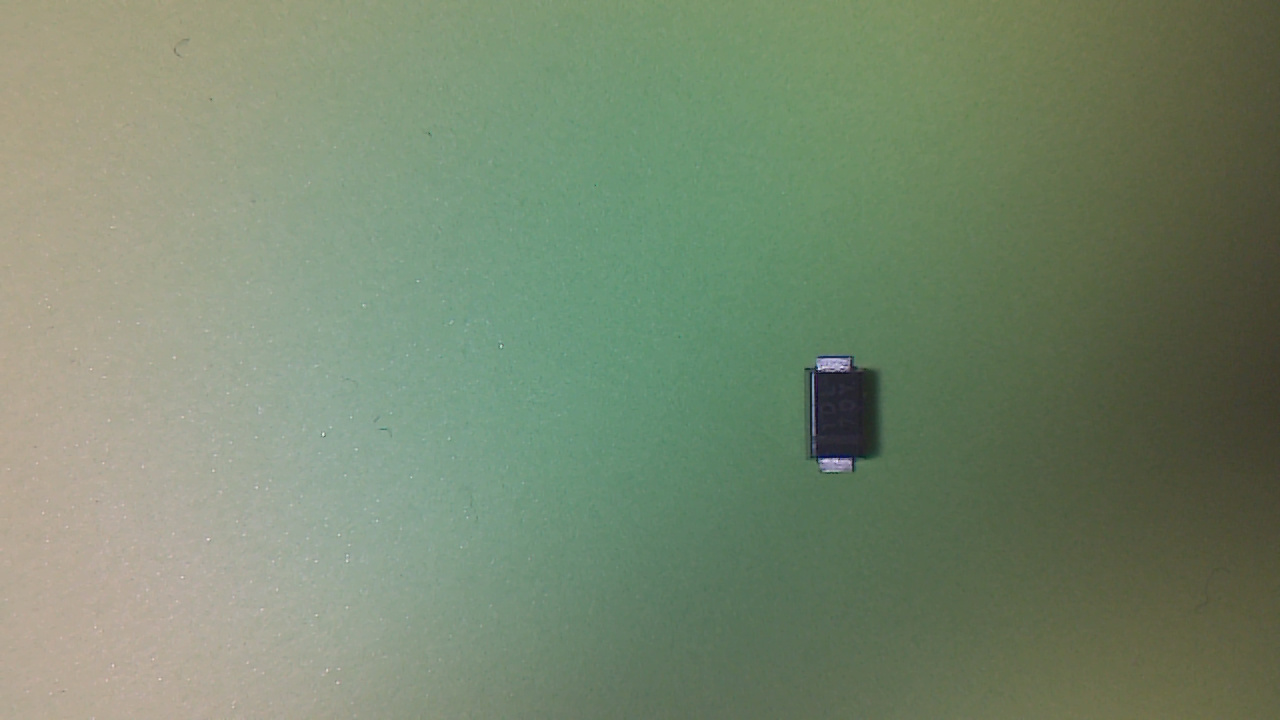Diode: (804, 353, 873, 479)
